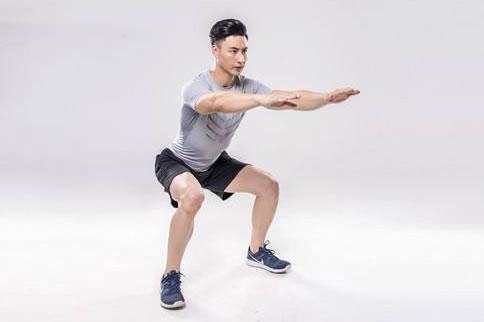Squat: (153, 17, 360, 309)
